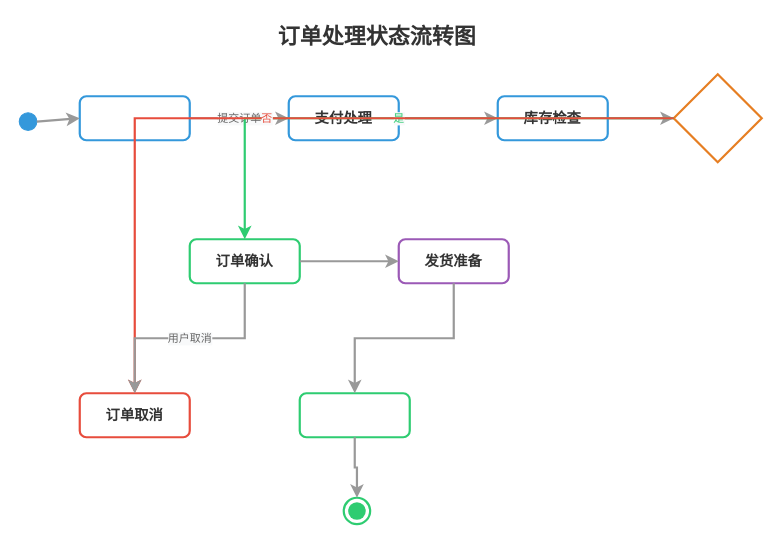
The diagram is 782 pixels wide and 543 high, and some of its shapes have lost their labels. Each missing label, with the box of its shape:
支付成功?: (672, 73, 762, 163)
订单创建: (78, 95, 190, 141)
订单完成: (298, 392, 410, 438)
